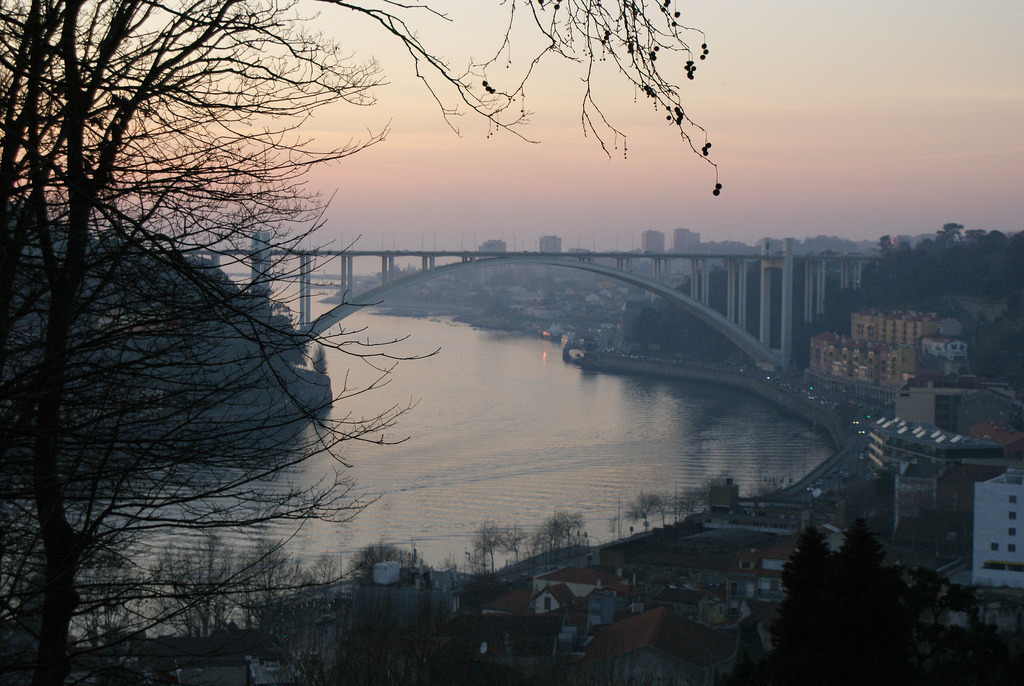arrabida: (178, 228, 883, 375)
